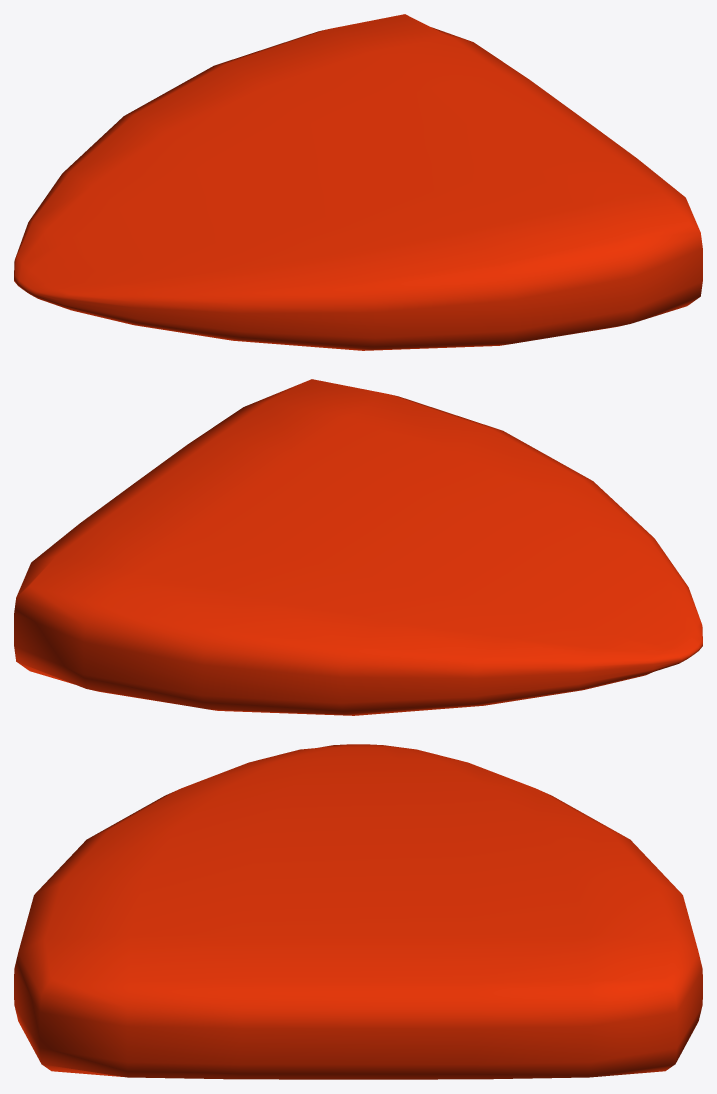
The model's file is characterBallMesh.glb.
The picture shows the model from 3 angles, top to bottom: view 1: azimuth 30°, elevation 25°; view 2: azimuth 150°, elevation 25°; view 3: azimuth 270°, elevation 25°; orthographic projection. The views are drawn at different scales.
Parts seen in each view (by area): view 1: characterball; view 2: characterball; view 3: characterball.
Part boxes in pixels (x1,y1,x2,y2): characterball: (14,14,702,350); characterball: (14,379,702,715); characterball: (14,744,702,1079).
Bounding box in the file's own units: 7.52 × 1.22 × 7.3.
